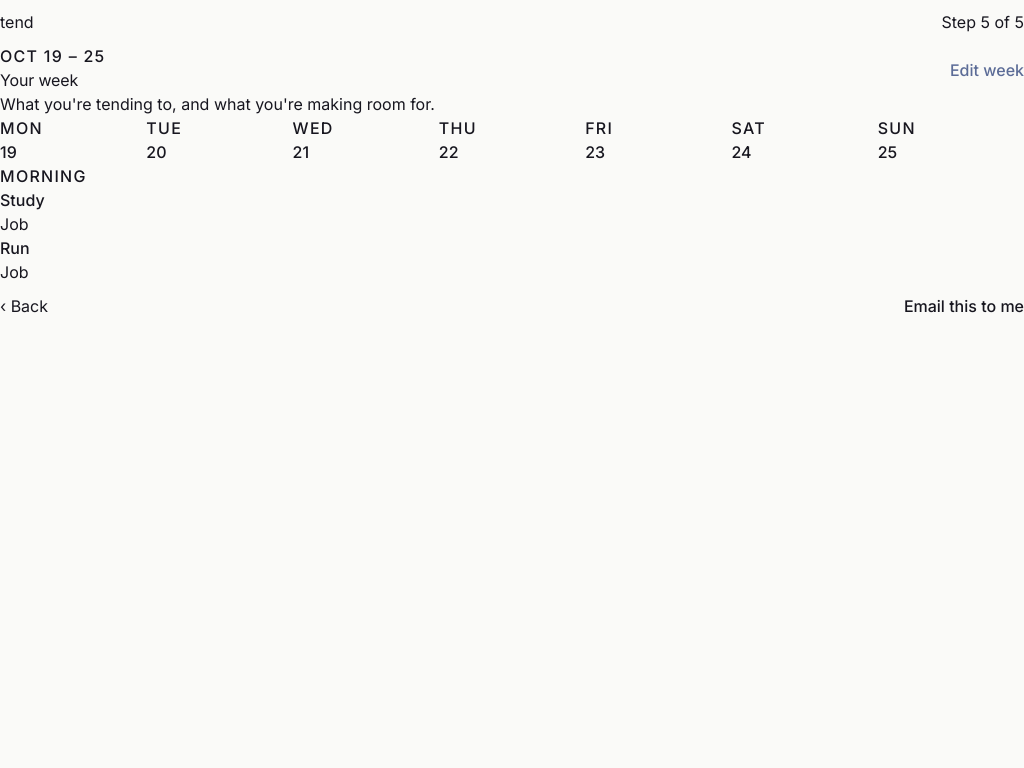
it: YourWeekStep › previews the move and commits it on Done, with undo
The width and height of the screenshot is (1024, 768).
Click the button "Edit week": {"x": 987, "y": 70} 950,48 -> 1023,92
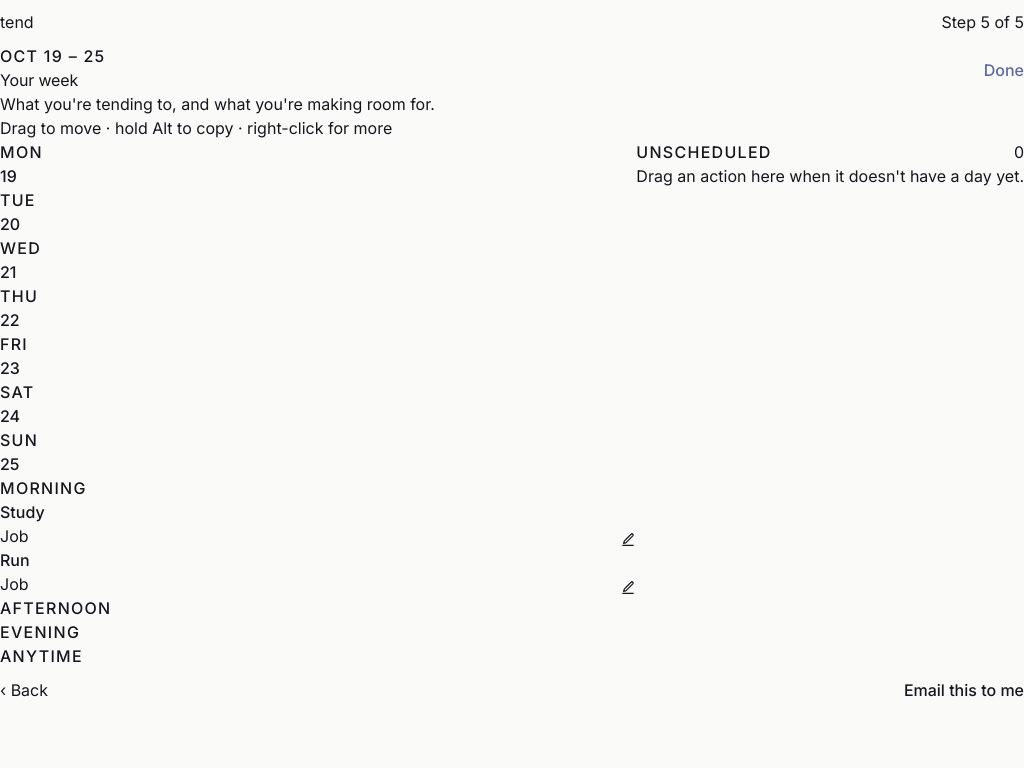
Click the button named "Study, Mon morning. Job": {"x": 310, "y": 512} 0,500 -> 620,524
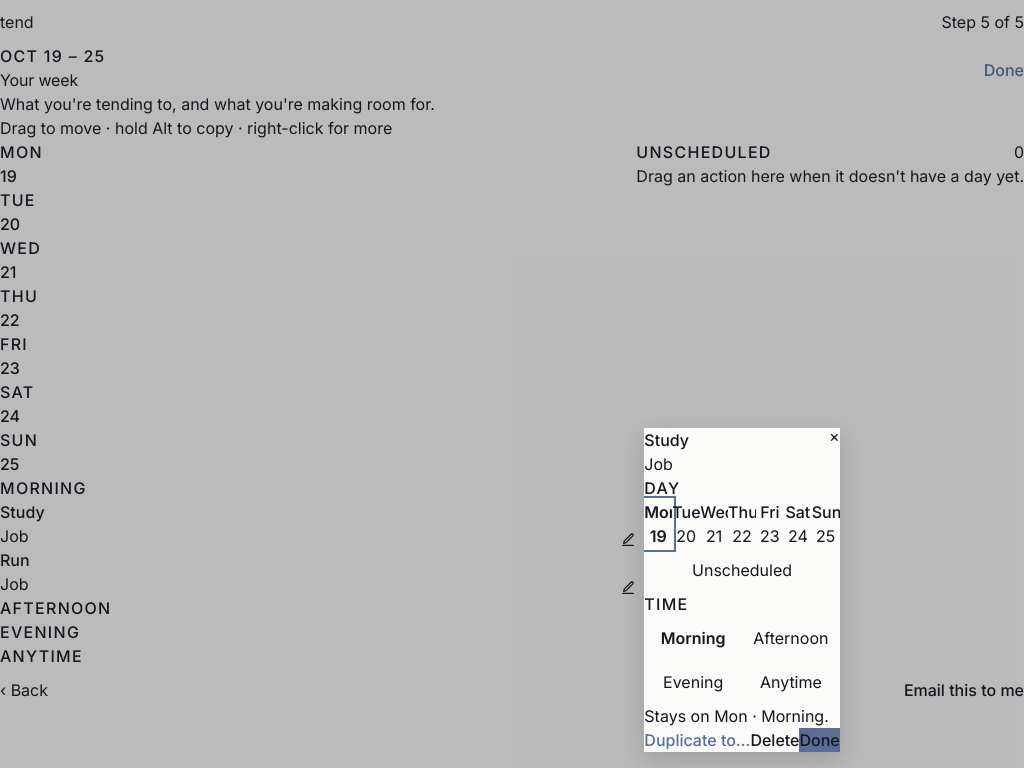
Click the button with aria-label "Thursday": {"x": 742, "y": 524} 728,500 -> 756,548
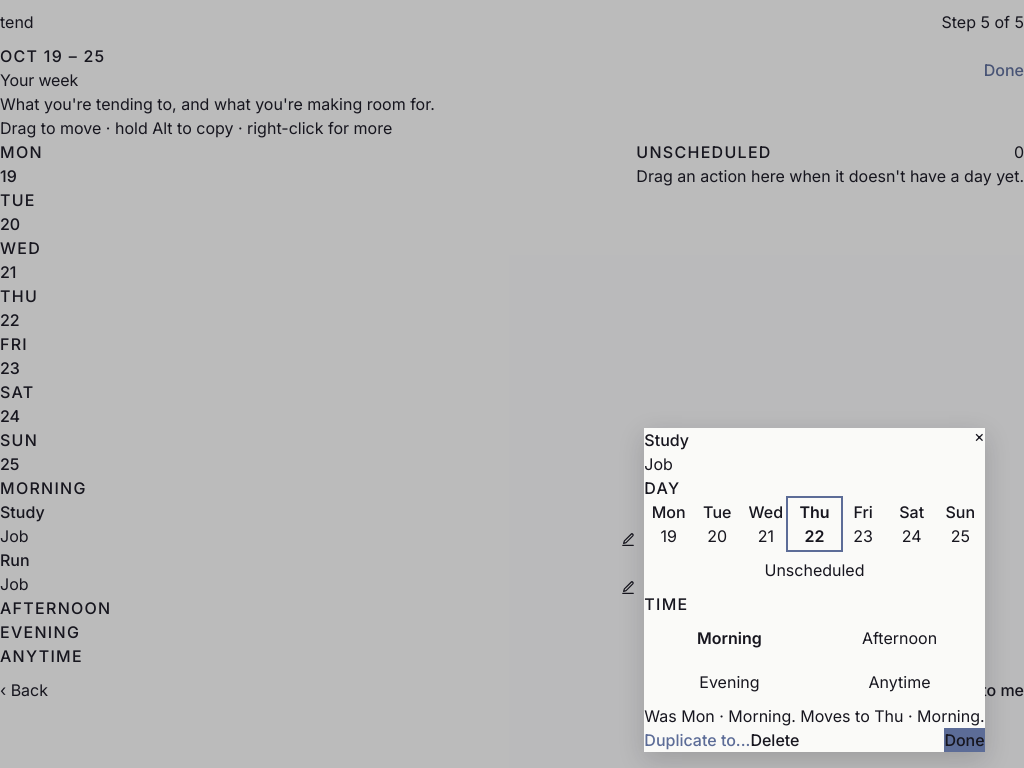
Click the button "Afternoon": {"x": 900, "y": 638} 814,616 -> 985,660
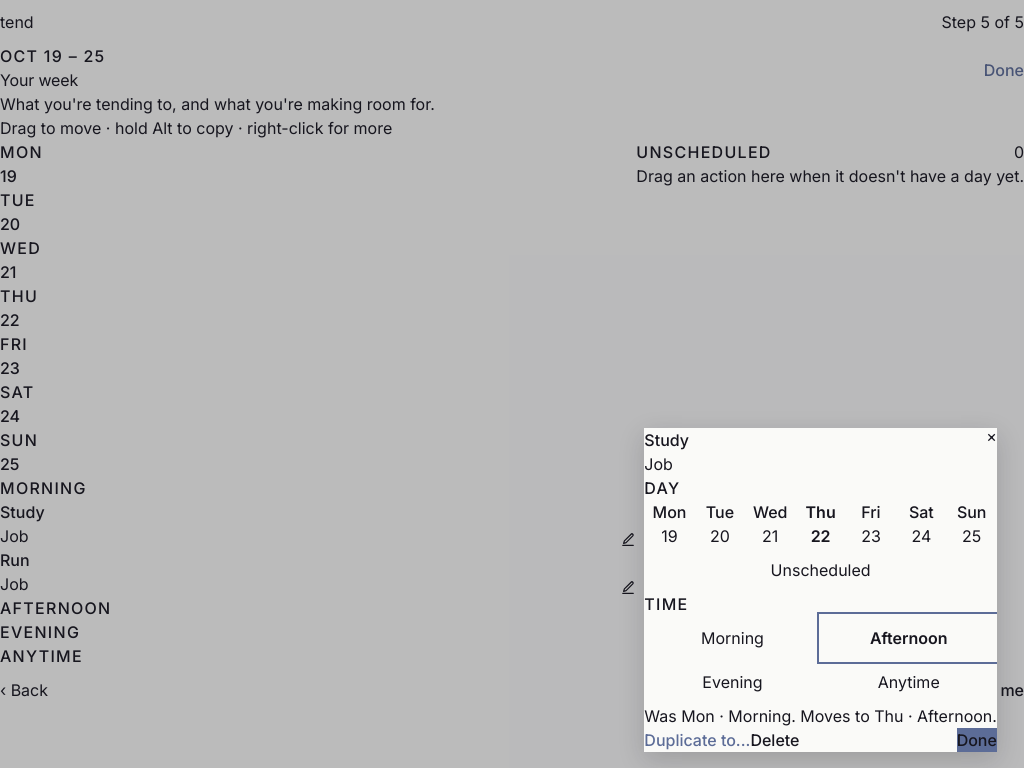
Now the text "Was Mon · Morning. Moves to Thu · Afternoon." is shown, box 644,704 -> 997,728
Click the button "Done": {"x": 977, "y": 740} 957,728 -> 997,752
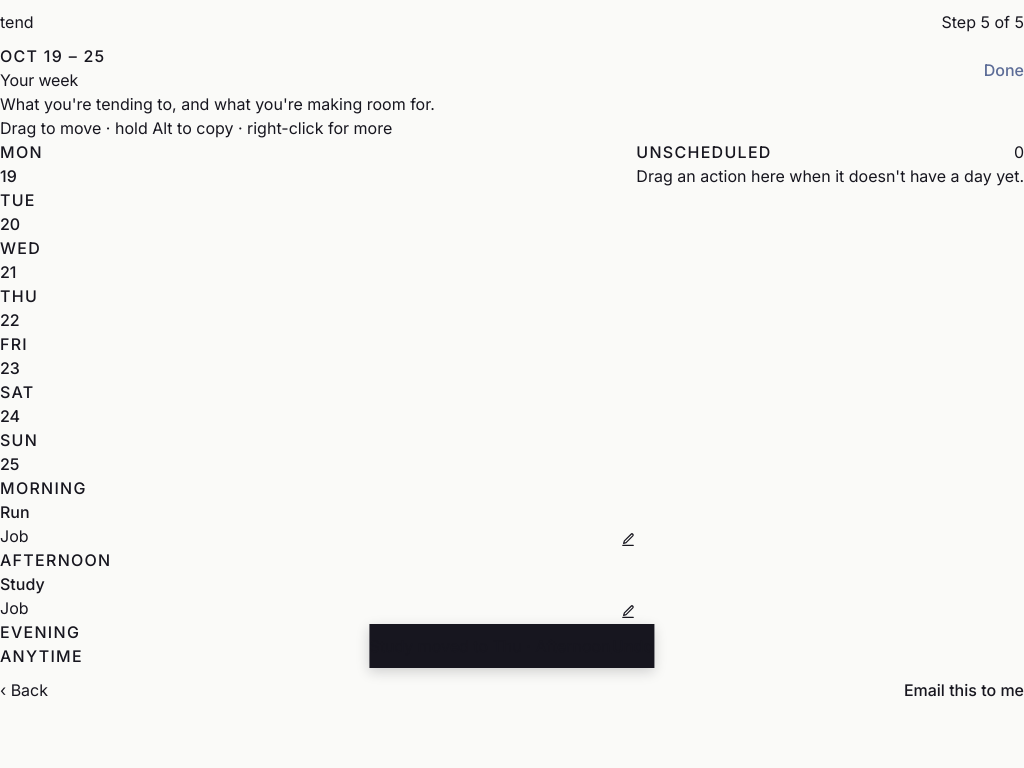
Now the dialog is gone
Now the button named "Study, Thu afternoon. Job" is shown, box 0,572 -> 620,596
Now the text "Study moved to Thu · Afternoon" is shown, box 369,634 -> 611,658
Click the button "Undo": {"x": 633, "y": 646} 611,624 -> 655,668
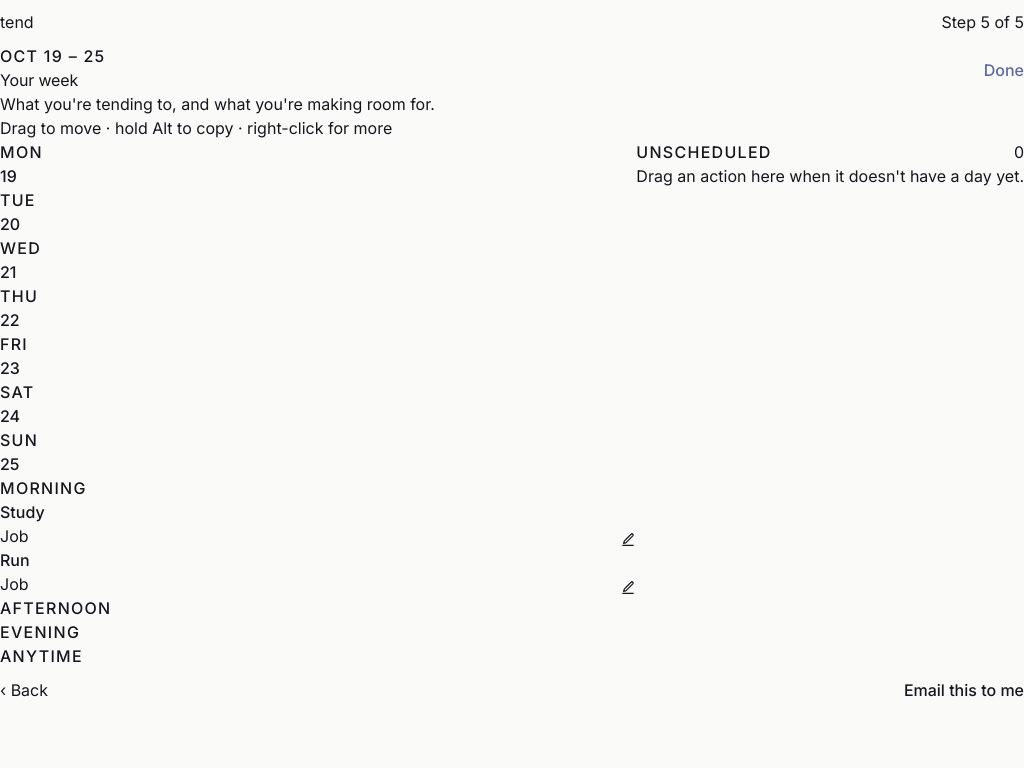
Now the button named "Study, Mon morning. Job" is shown, box 0,500 -> 620,524
Now the text "Study moved to Thu · Afternoon" is gone
